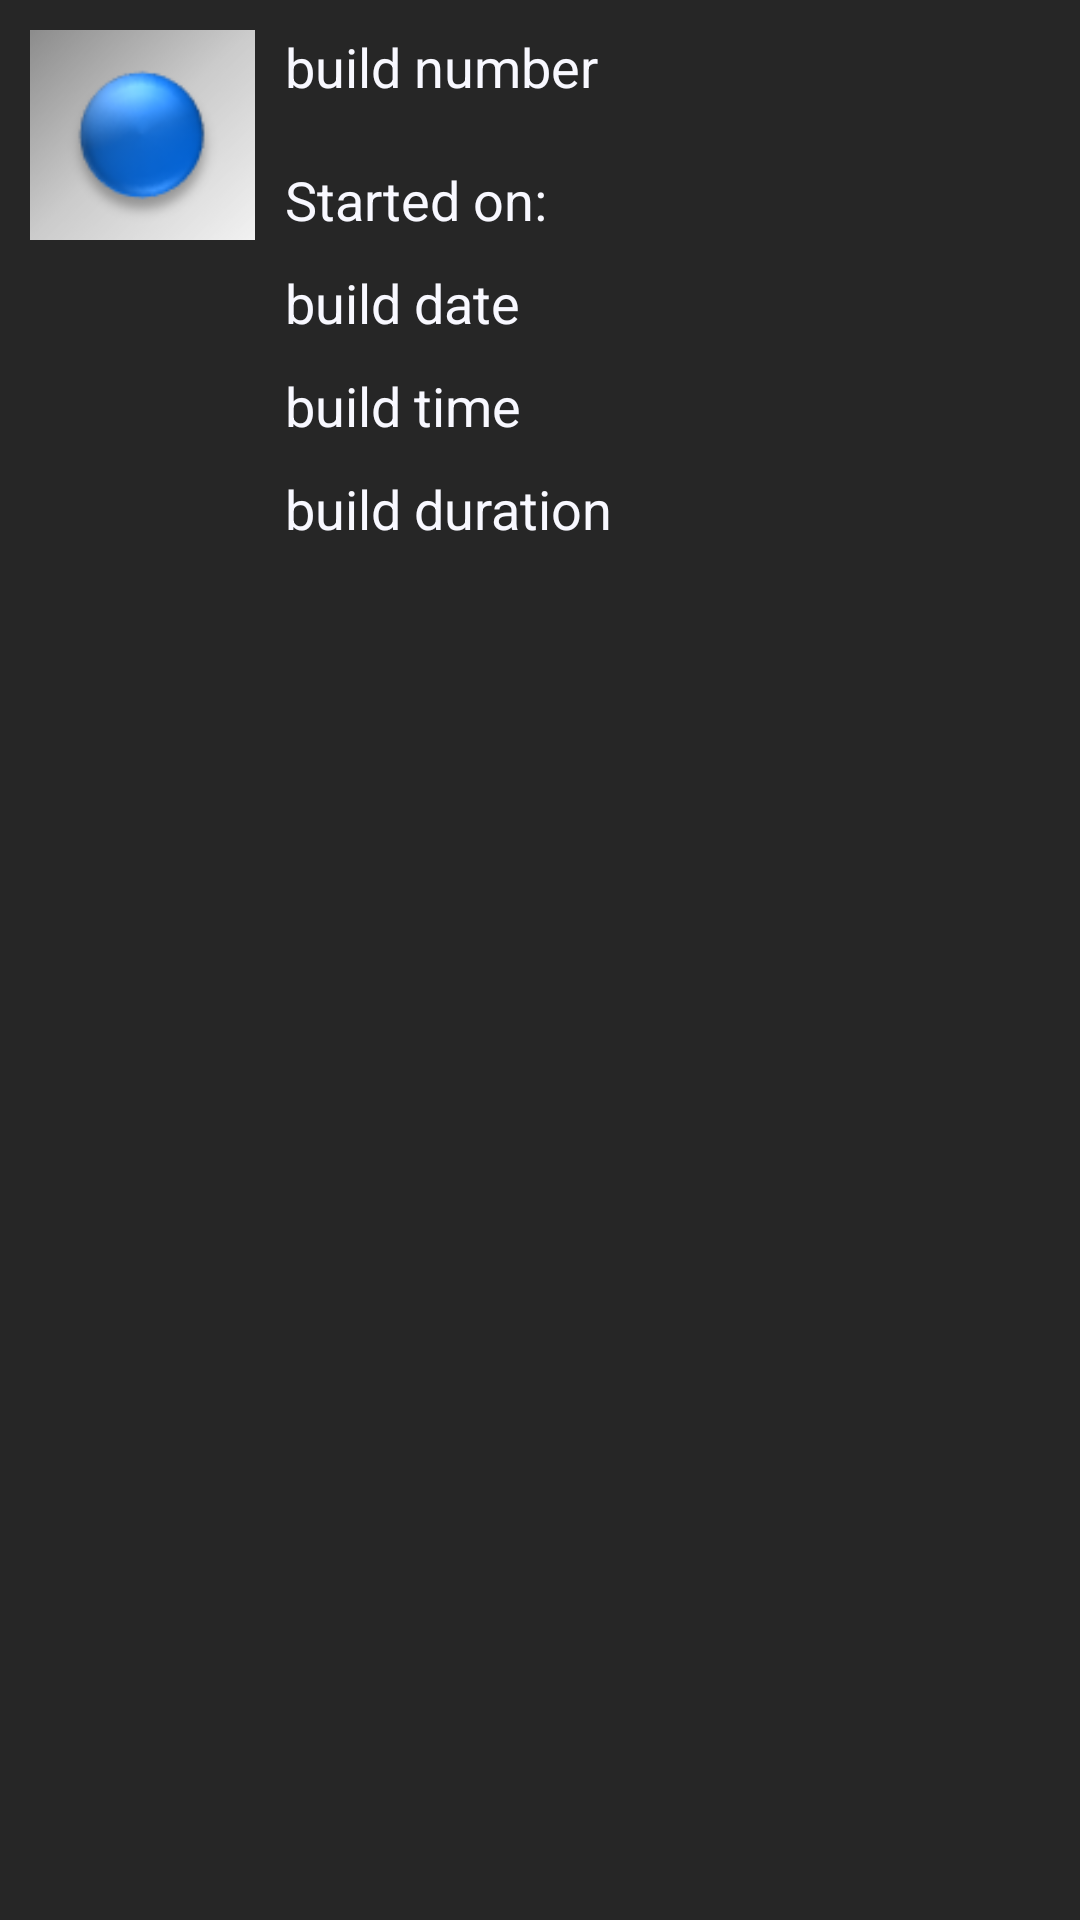

Locate icon controls on the screen. Image size 1080×1920, boxes as (x1, y1, x2, y2).
ball: (30, 30, 255, 240)
